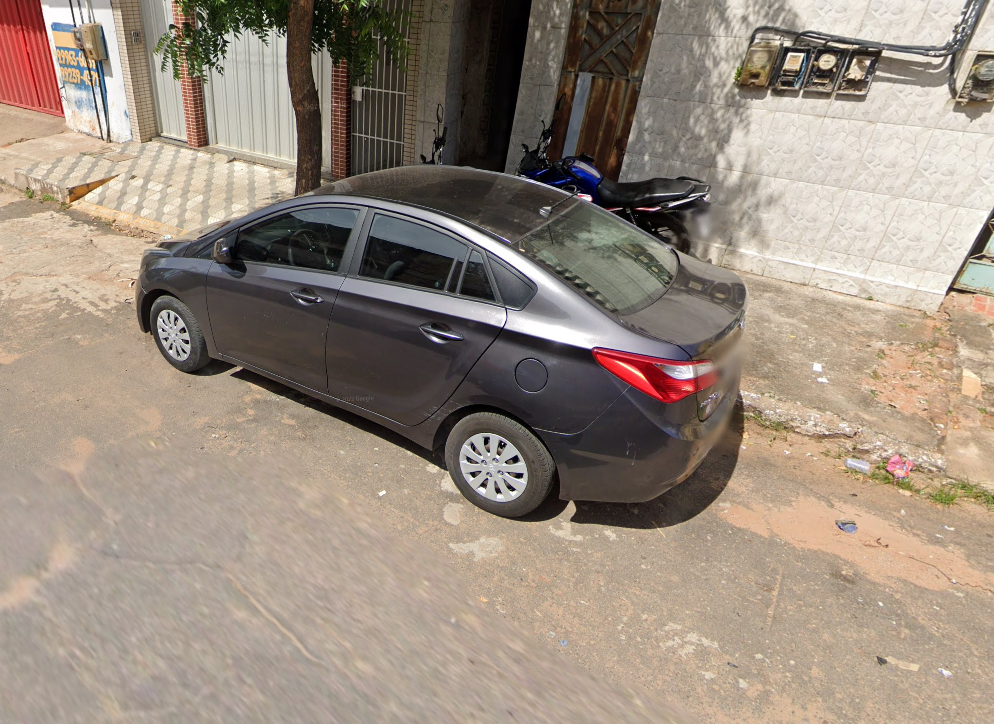car: (129, 155, 758, 533)
